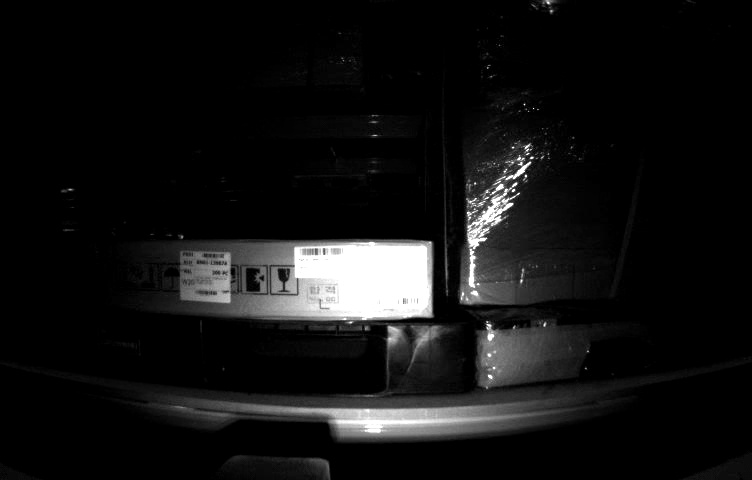True Barcode: (177, 244, 233, 304)
